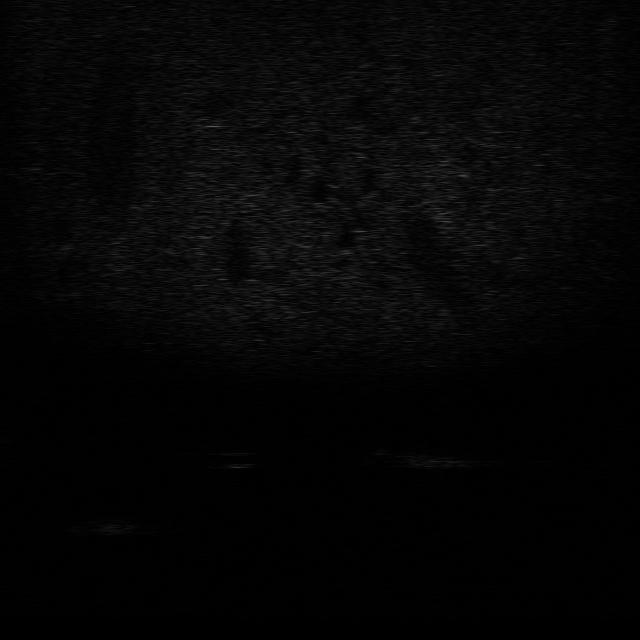ball: (212, 448, 262, 472)
circle cage: (69, 511, 141, 539)
human body: (353, 446, 478, 471)
